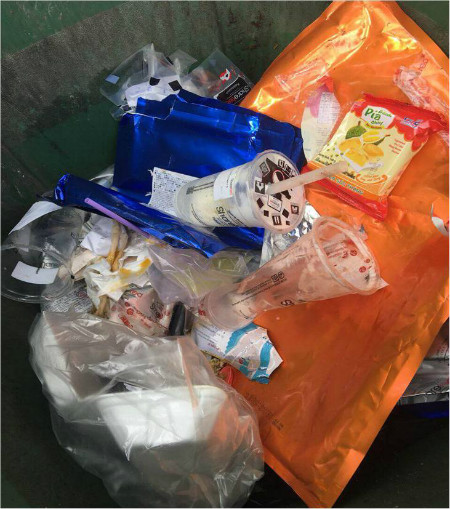plastic bag: (1, 1, 450, 509)
